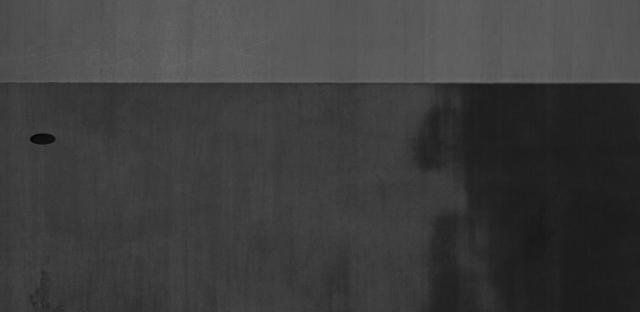punching_hole: (25, 128, 67, 146)
welding_line: (5, 76, 639, 97)
